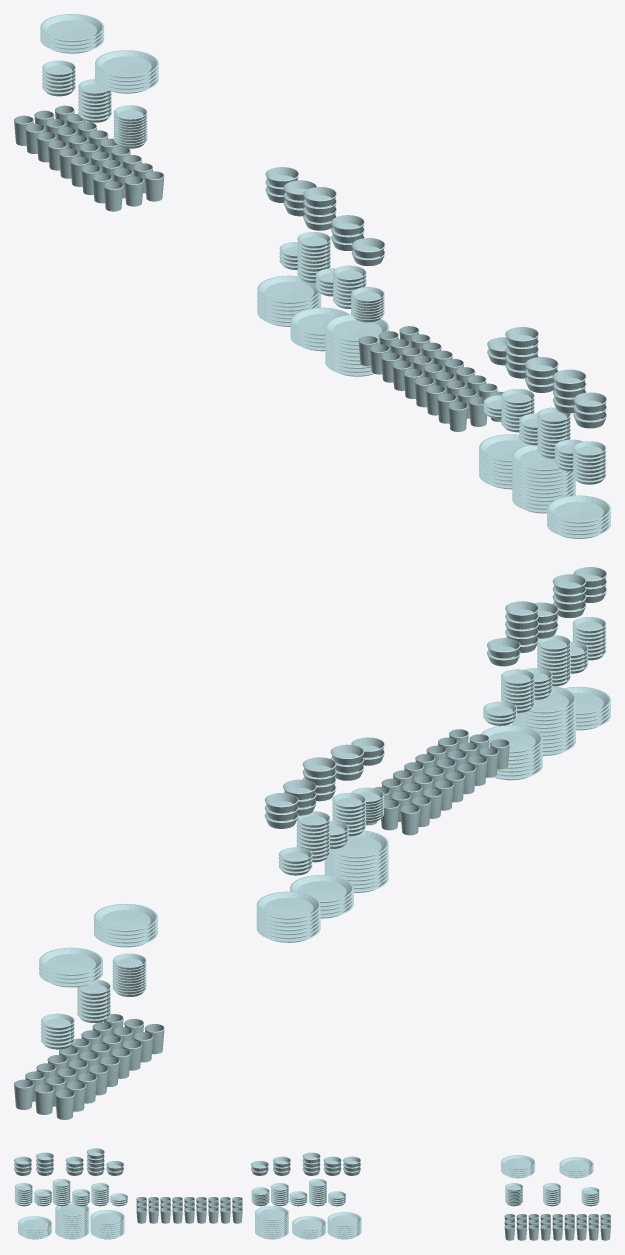
File: resto_ni_teo_10.obj
The picture shows the model from 3 angles, top to bottom: view 1: azimuth 30°, elevation 25°; view 2: azimuth 150°, elevation 25°; view 3: azimuth 270°, elevation 25°; orthographic projection. The views are drawn at different scales.
Size of the model in its own units: 0.4491 by 1.13 by 7.49.
